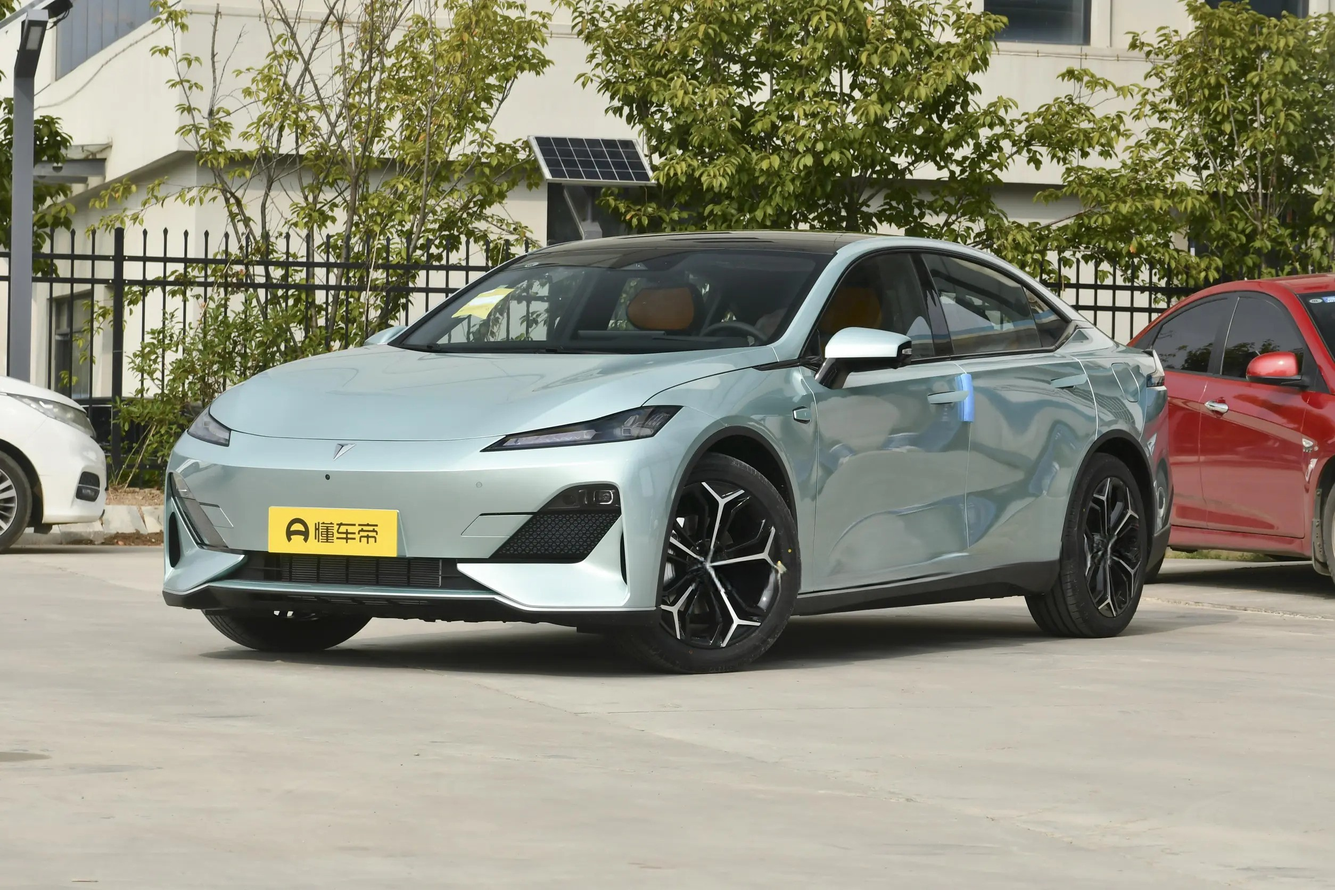Deepal: (333, 443, 356, 461)
